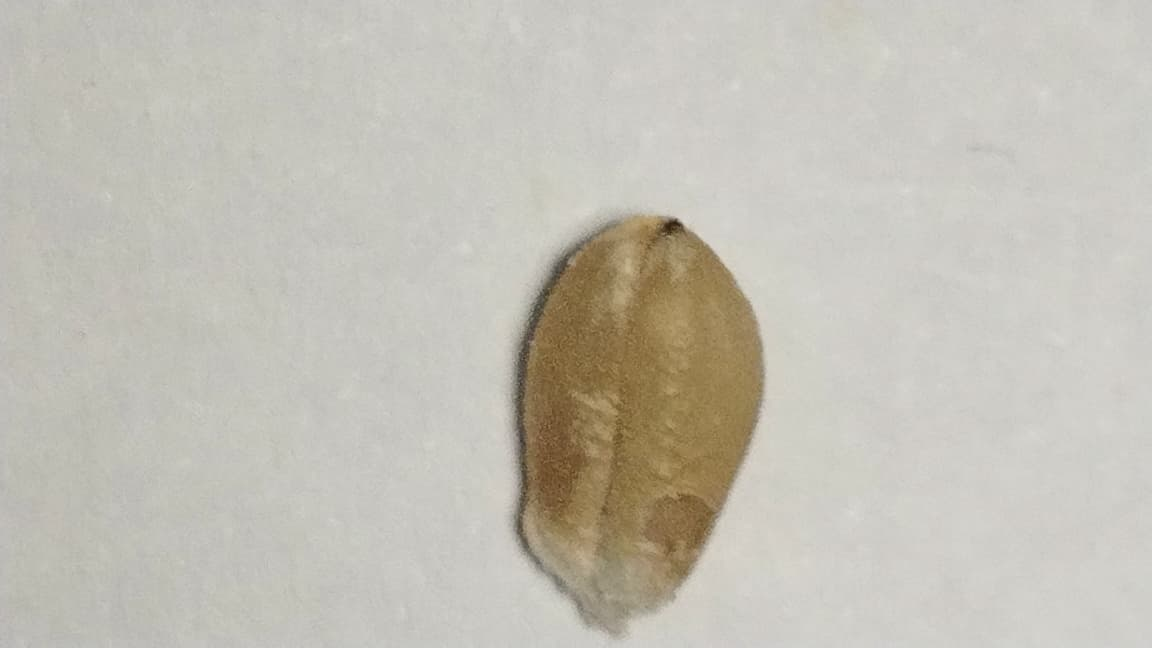damage: (516, 216, 762, 615)
insectdamage: (618, 470, 729, 590)
